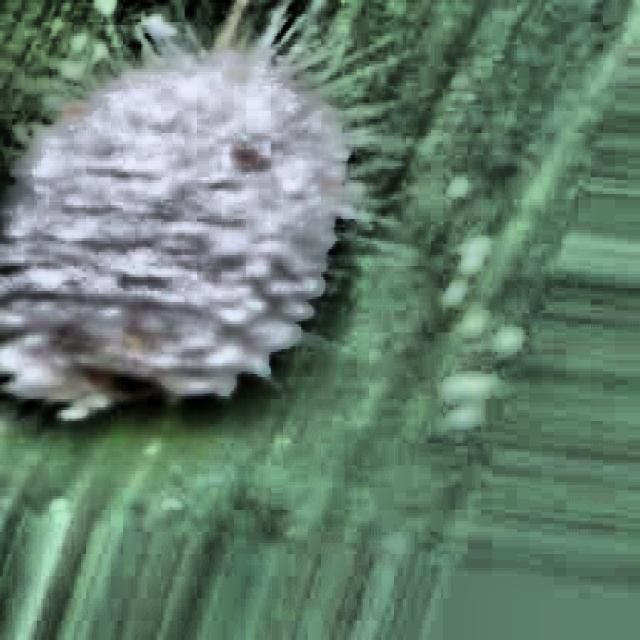Mealy-bug: (0, 0, 366, 551)
